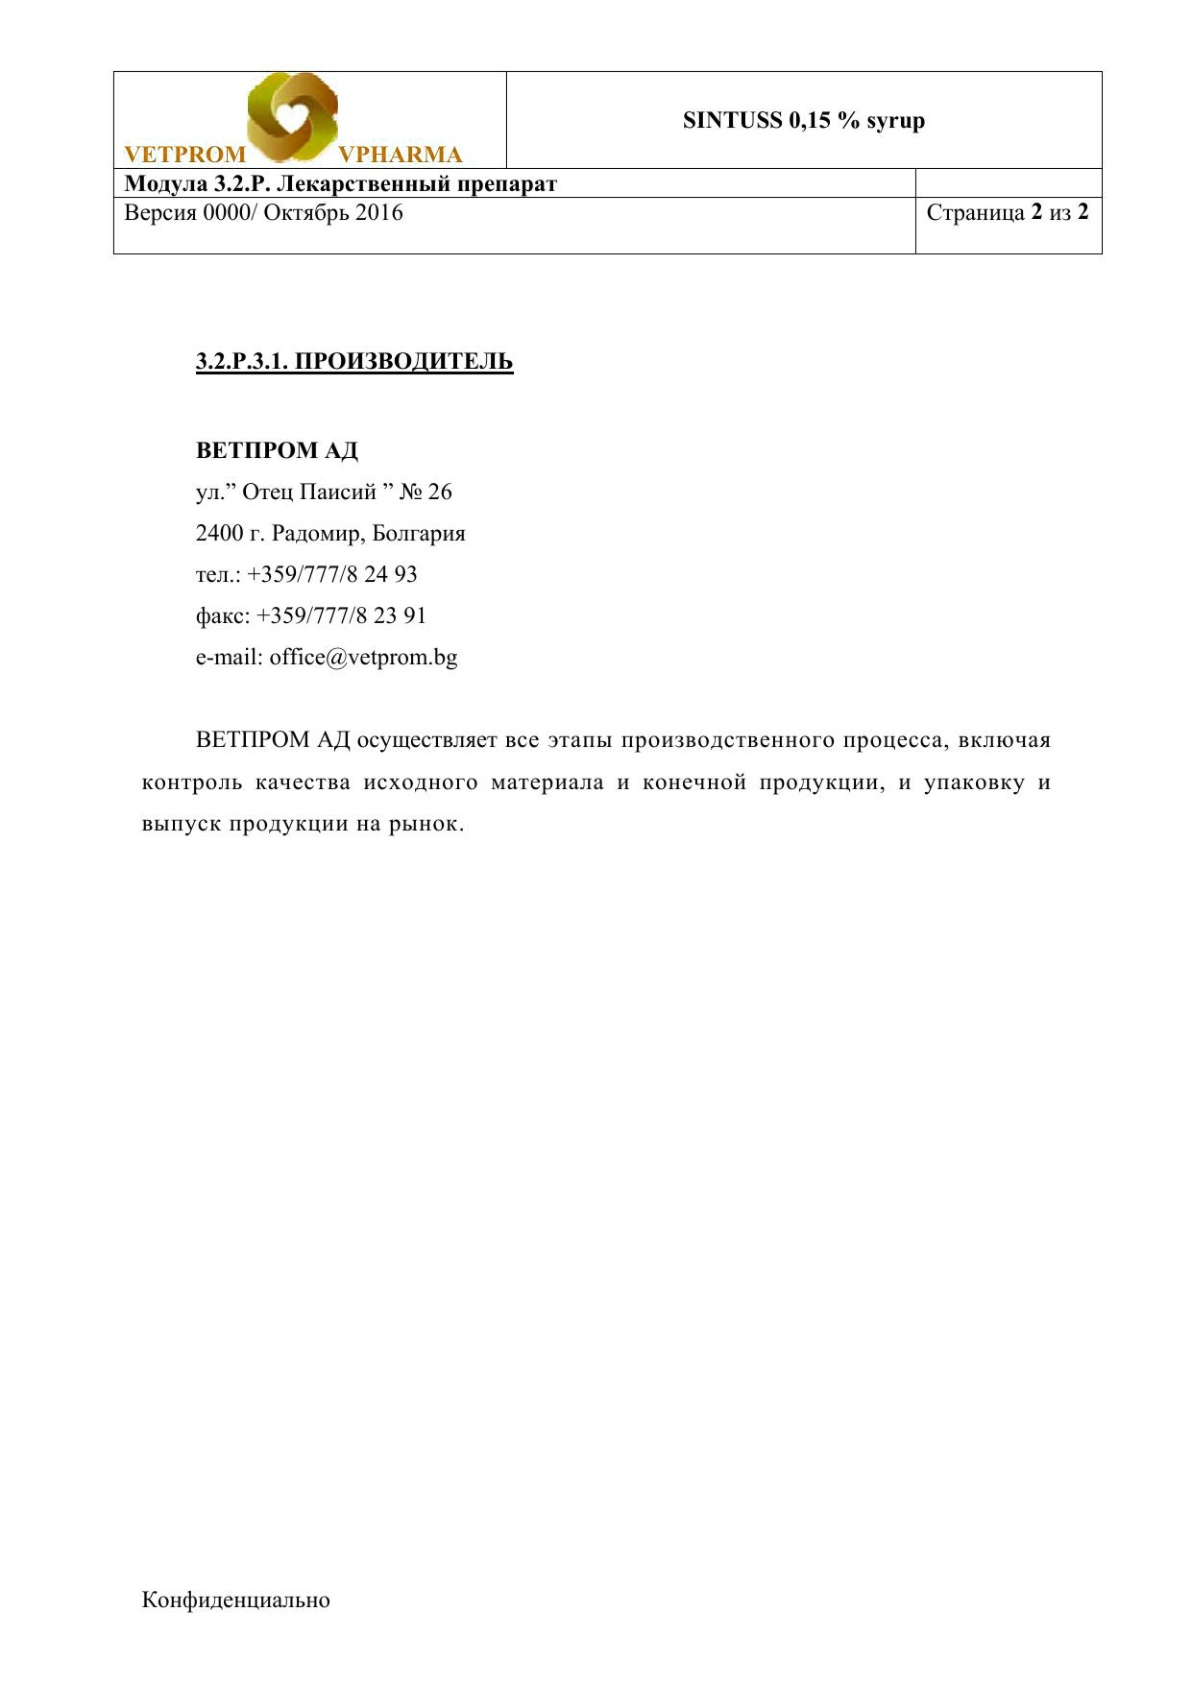merged_cells: (111, 68, 1103, 255)
